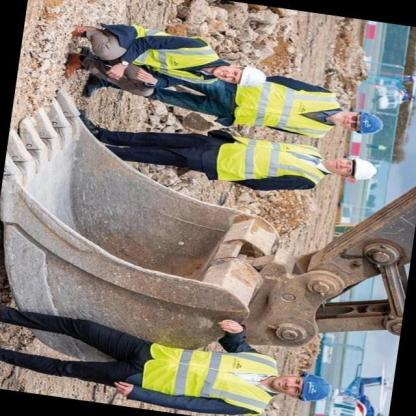bota: (72, 107, 108, 145), (62, 51, 86, 81), (81, 71, 102, 99), (69, 22, 100, 40)
capacete: (297, 374, 335, 408), (238, 64, 268, 90), (356, 110, 384, 137), (350, 157, 378, 183)
